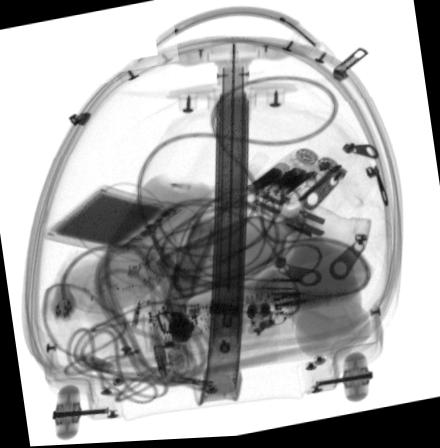Powerbank: (43, 185, 184, 255)
